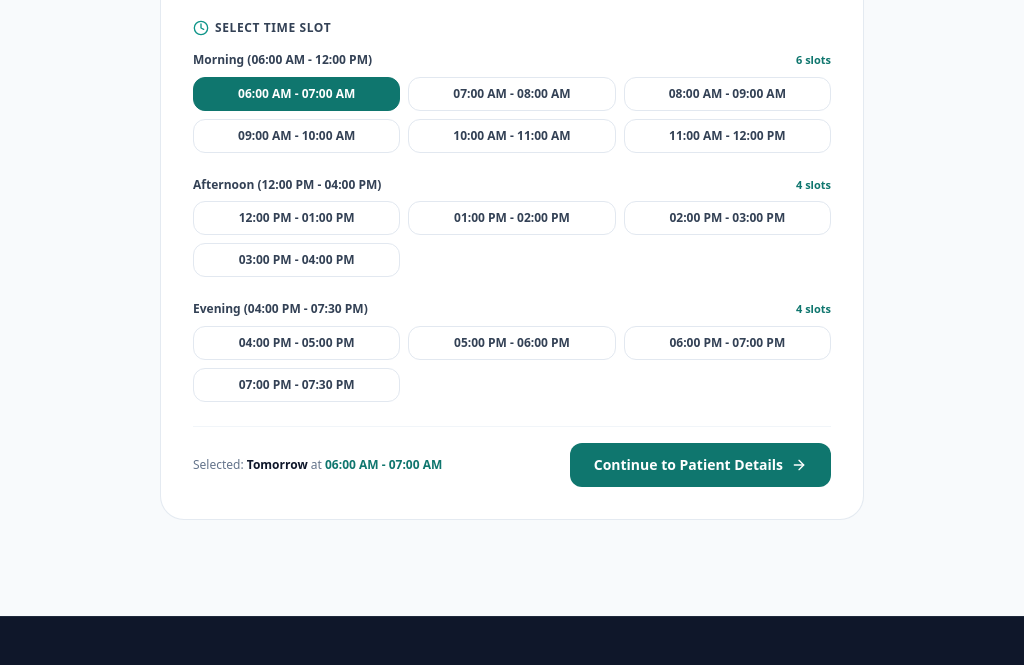
it: Booking Flow & Patient Details › renders continuous time slots from 06:00 AM all the way to 07:30 PM
(page scrolled)
Expected: the button "06:00 AM - 07:00 AM" is shown, left=193, top=76, right=400, bottom=110
Expected: the button "07:00 AM - 08:00 AM" is shown, left=408, top=76, right=616, bottom=110
// Select evening 7:00 PM - 7:30 PM slot
Click the button "07:00 PM - 07:30 PM": (297,384) left=193, top=368, right=400, bottom=402
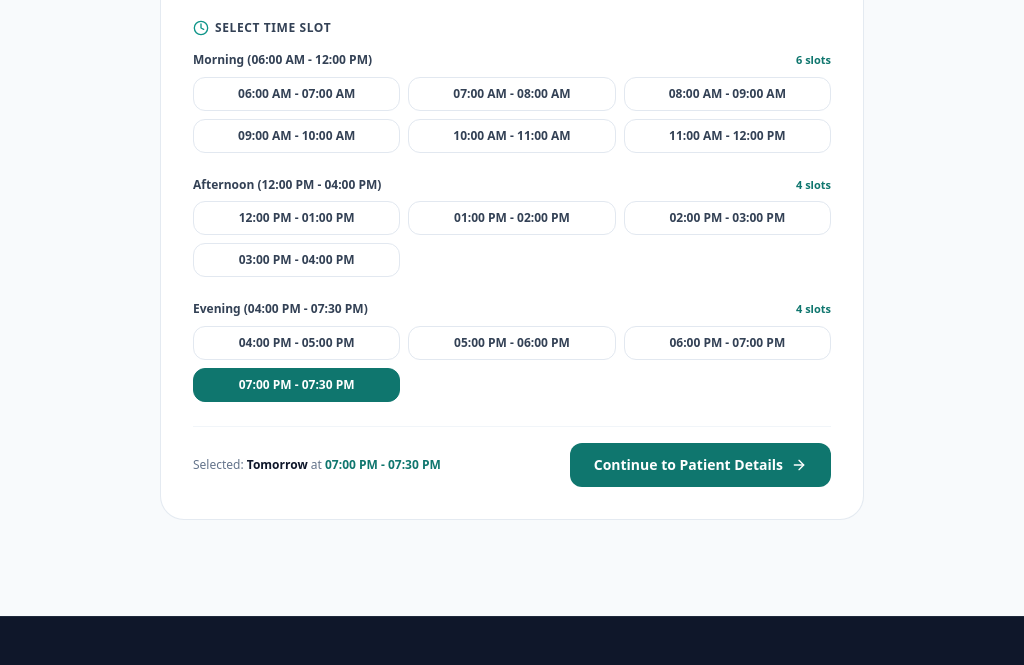
Now the text "Selected: Tomorrow at 07:00 PM - 07:30 PM" is shown, box left=193, top=456, right=441, bottom=472
